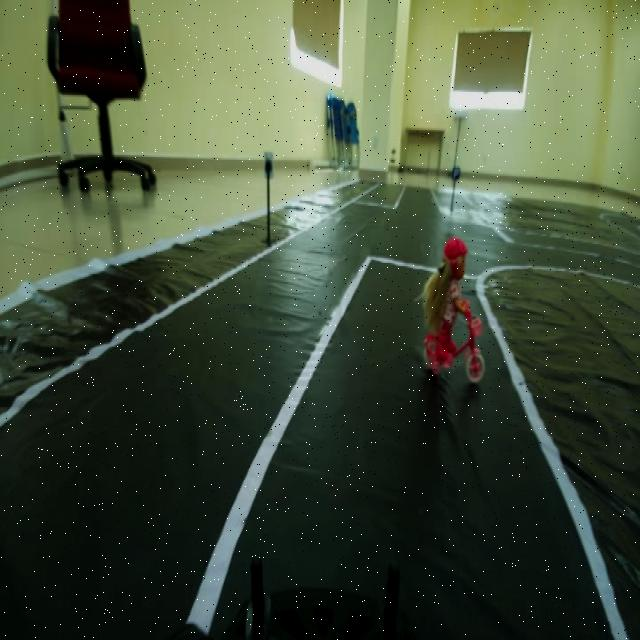pedestrian: (420, 243, 490, 384)
